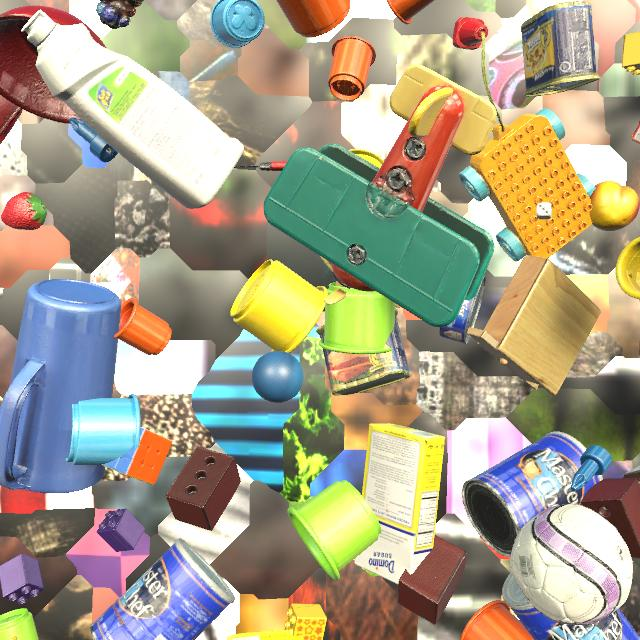ycb_002_master_chef_can: (462, 431, 603, 557), (90, 538, 235, 640), (502, 572, 640, 640)
ycb_003_cracker_box: (0, 110, 23, 144)
ycb_004_sugar_box: (354, 423, 445, 585), (227, 629, 303, 640)
ycb_007_tuna_fish_can: (439, 276, 486, 345)
ycb_008_pudding_box: (623, 465, 640, 485)
ycb_009_gelatin_box: (631, 121, 640, 144)
ycb_010_potted_meat_can: (316, 309, 411, 396), (521, 1, 600, 97)
ycb_012_strawberry: (1, 192, 47, 230)
ycb_015_peach: (590, 181, 640, 231)
